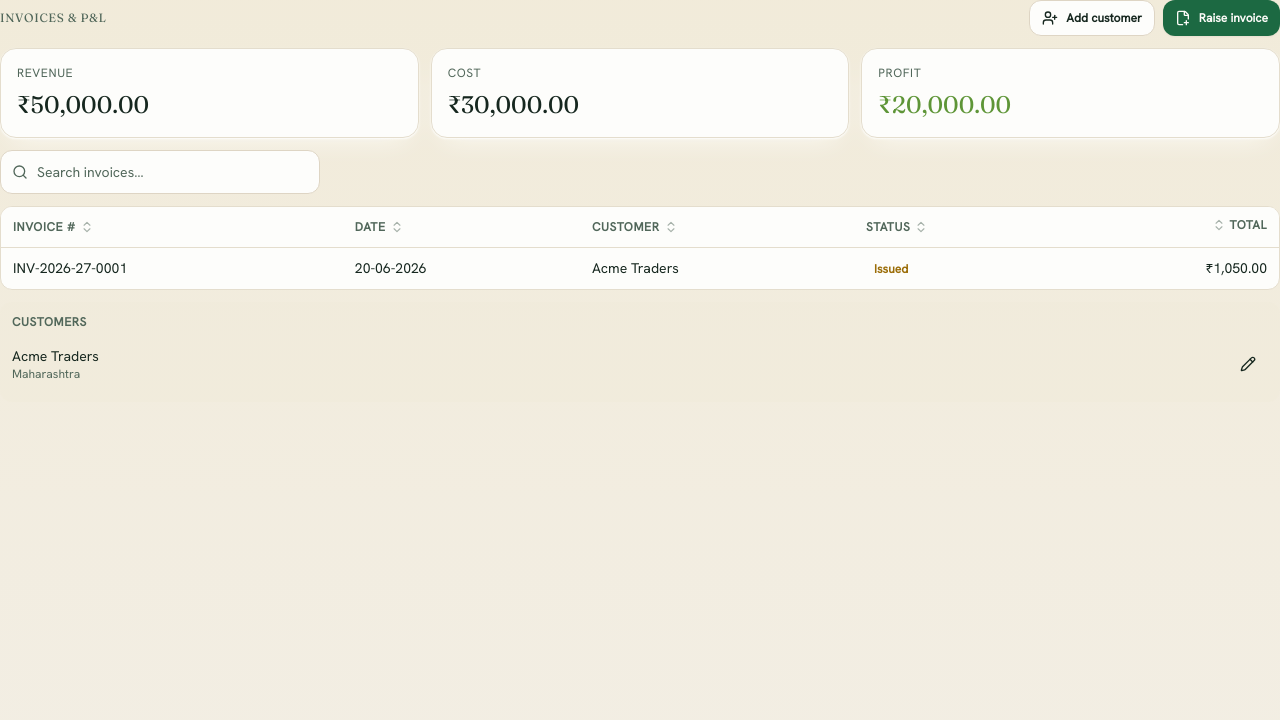
Test case: InvoicePanel (11.6c conversion) › renders the P&L tiles and the invoice table; row click opens the detail dialog
This screenshot has width=1280, height=720.
Expected: the text "₹50,000.00" is shown, [17,90,149,119]
Expected: the text "₹30,000.00" is shown, [448,90,579,119]
// row click → detail via GET /api/farm/invoices/:id
Click the text "INV-2026-27-0001".
click(70, 268)  # box [13,259,127,277]
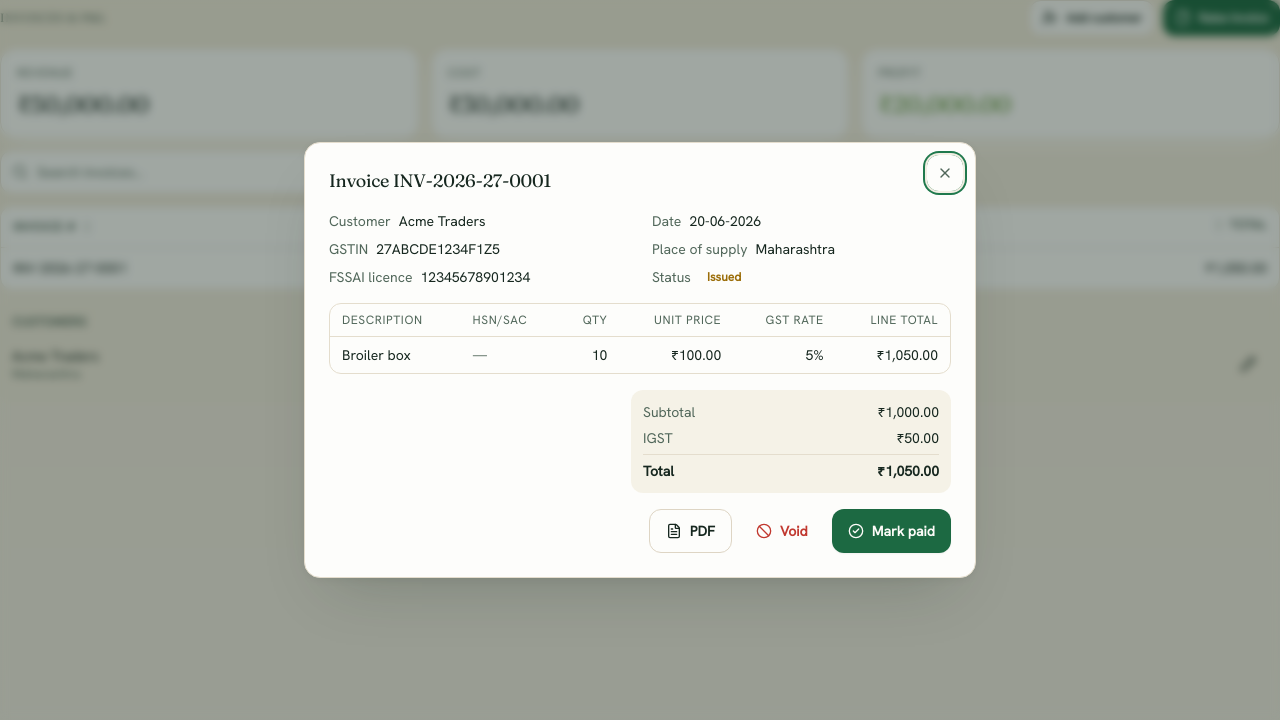
Result: the text "Broiler box" is shown at [330,336,460,373]
Result: the text "12345678901234" is shown at [420,267,530,287]
Result: the text "27ABCDE1234F1Z5" is shown at [376,239,500,259]
